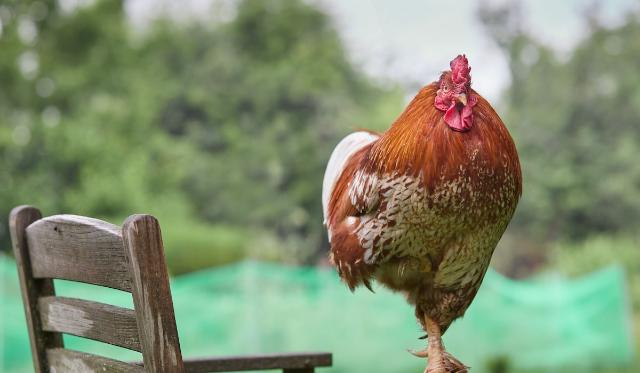Chicken: (323, 53, 523, 373)
